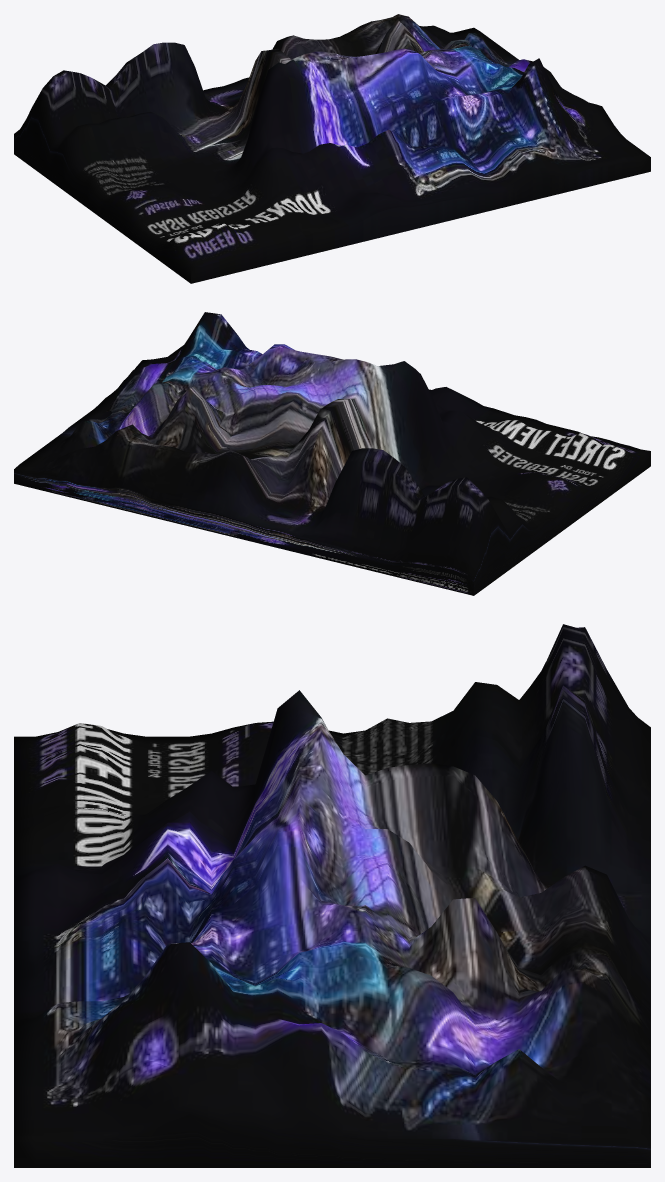
The model's file is CAREER_01_Tool_04_Cash_Register.glb.
The picture shows the model from 3 angles, top to bottom: view 1: azimuth 30°, elevation 25°; view 2: azimuth 150°, elevation 25°; view 3: azimuth 270°, elevation 25°; orthographic projection. The views are drawn at different scales.
Parts seen in each view (by area): view 1: CAREER_01_Tool_04_Cash_Register; view 2: CAREER_01_Tool_04_Cash_Register; view 3: CAREER_01_Tool_04_Cash_Register.
Boxes of the visible parts, x1,y1,x2,y2 form: CAREER_01_Tool_04_Cash_Register: [14, 14, 650, 283]; CAREER_01_Tool_04_Cash_Register: [14, 312, 650, 595]; CAREER_01_Tool_04_Cash_Register: [14, 624, 650, 1167].
Bounding box in the file's own units: 2 × 0.51 × 1.33.
1 material, 1 textured.
